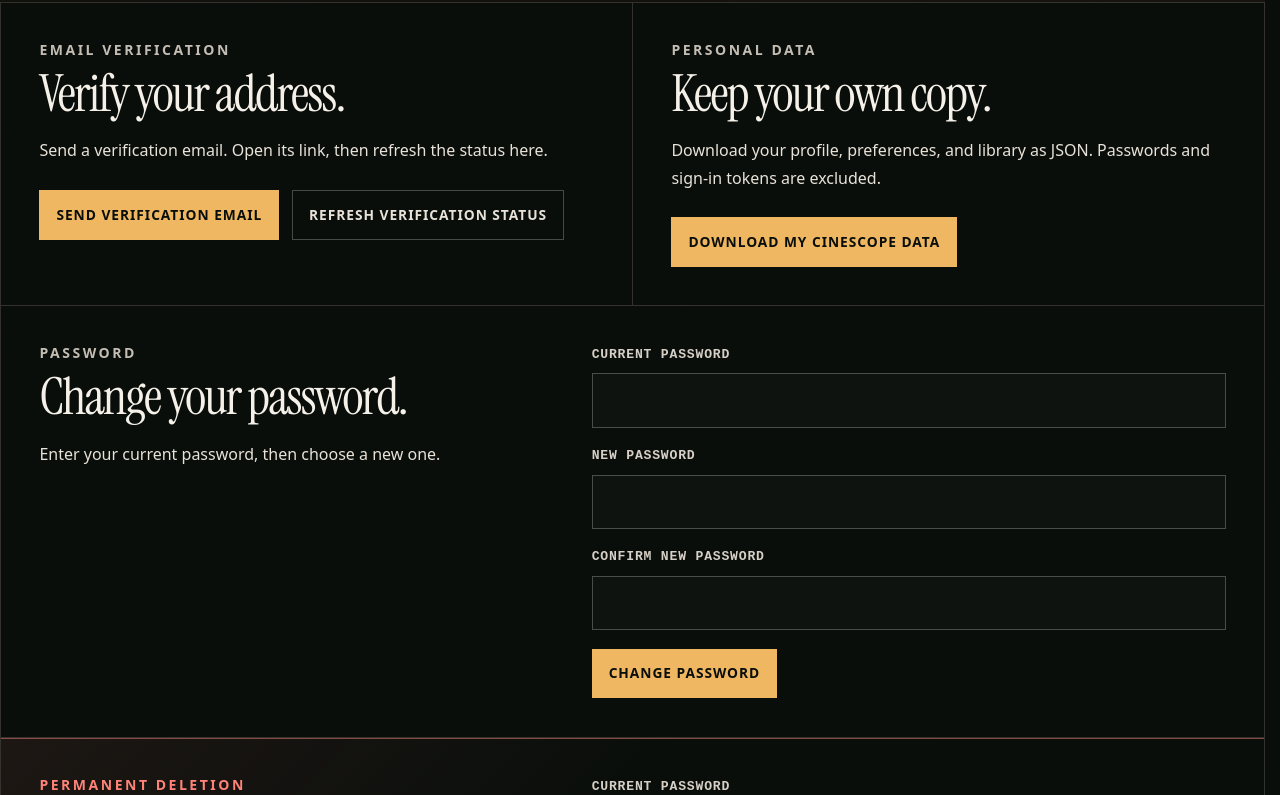
Test: profile security controls › requires matching new passwords before changing the credential
The width and height of the screenshot is (1280, 795).
(page scrolled)
Expected: the element "Change your password." is shown, [1,306,1264,737]
Type "CurrentPass123!" into the password field labelled "Current password". click: (909, 400)
box: [592,373,1226,428]
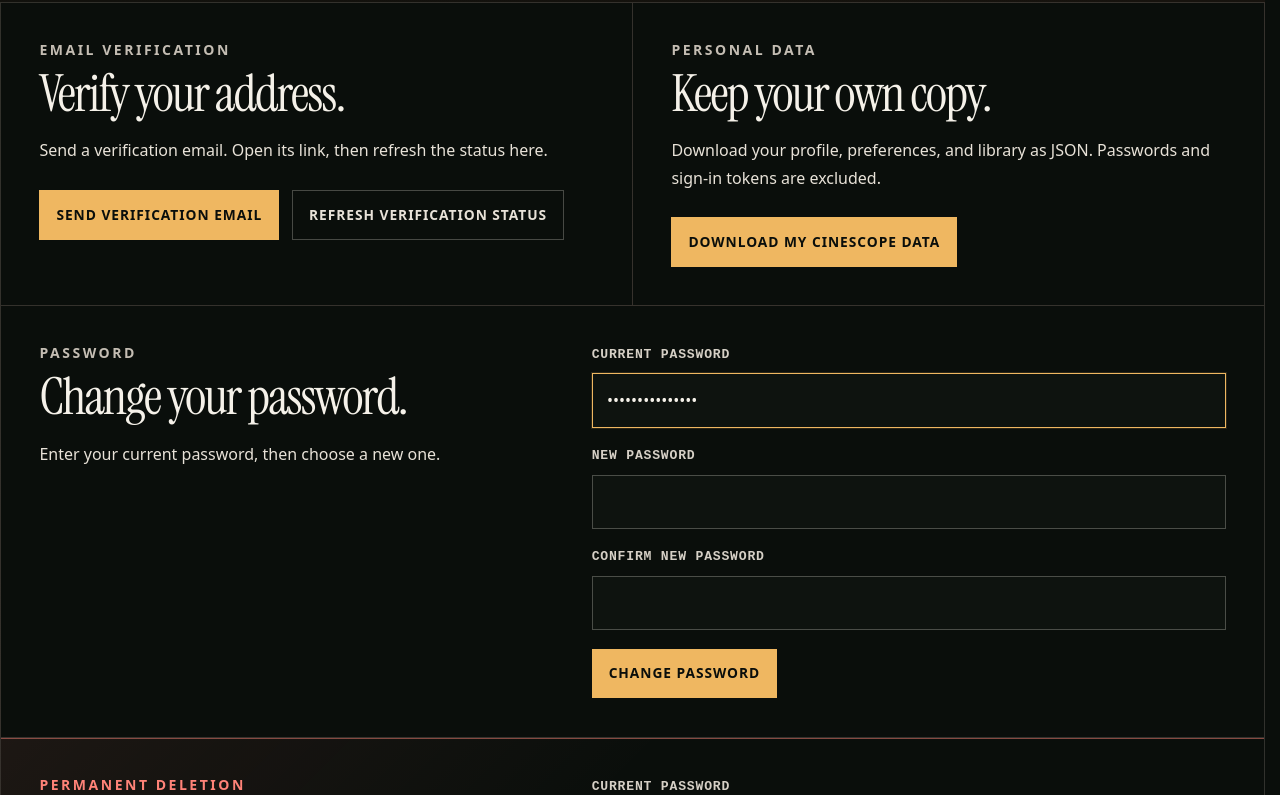
Type "NewPassword123!" into the password field labelled "New password". click: (909, 502)
box: [592,474,1226,529]
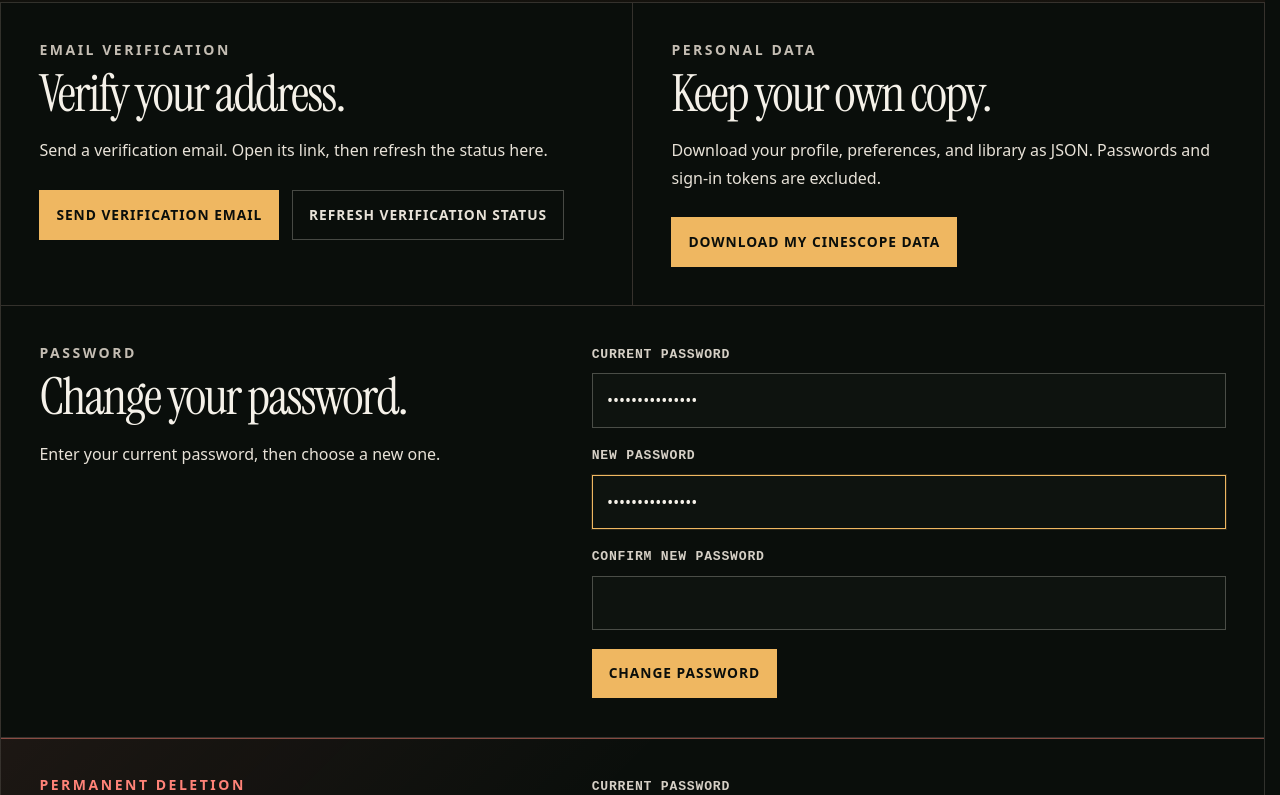
Type "NewPassword123!" into the password field labelled "Confirm new password". click: (909, 603)
box: [592,576,1226,630]
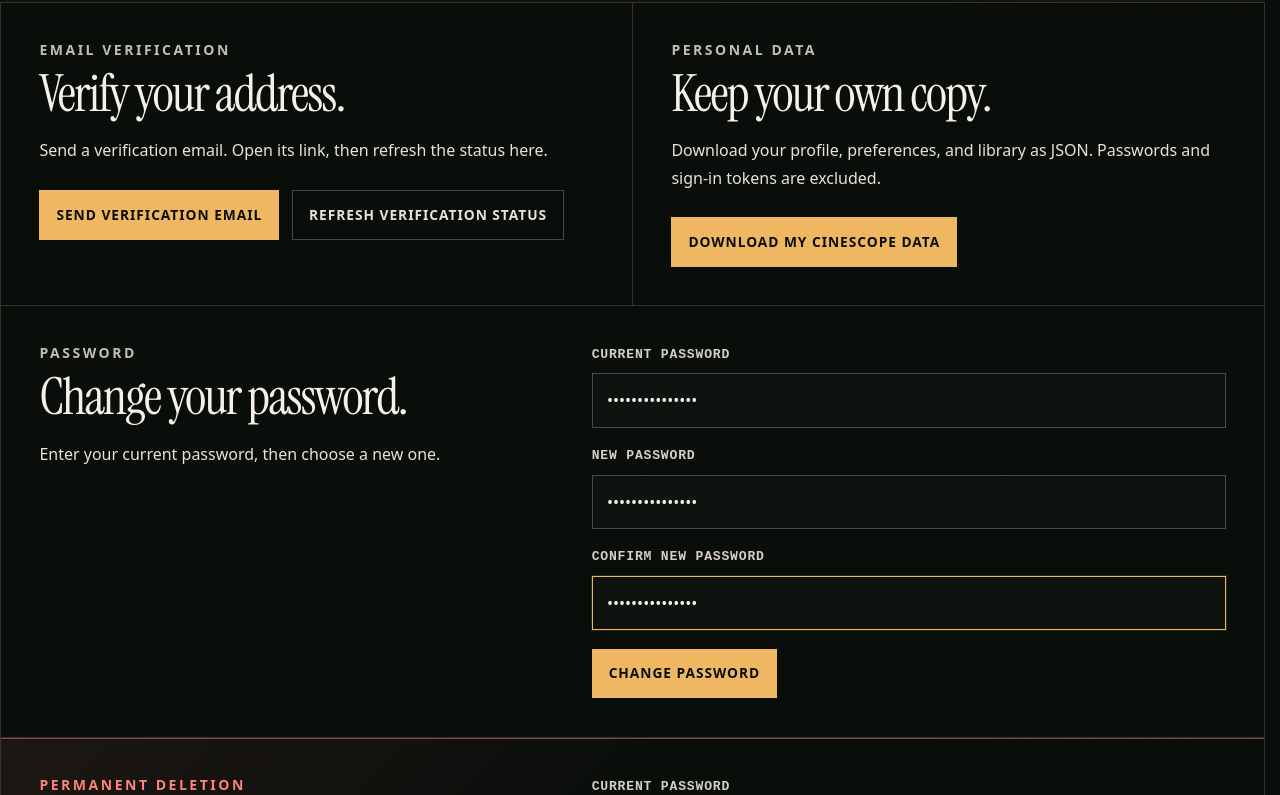
Click the button "Change password". click: (684, 673)
box: [592,649,777,698]
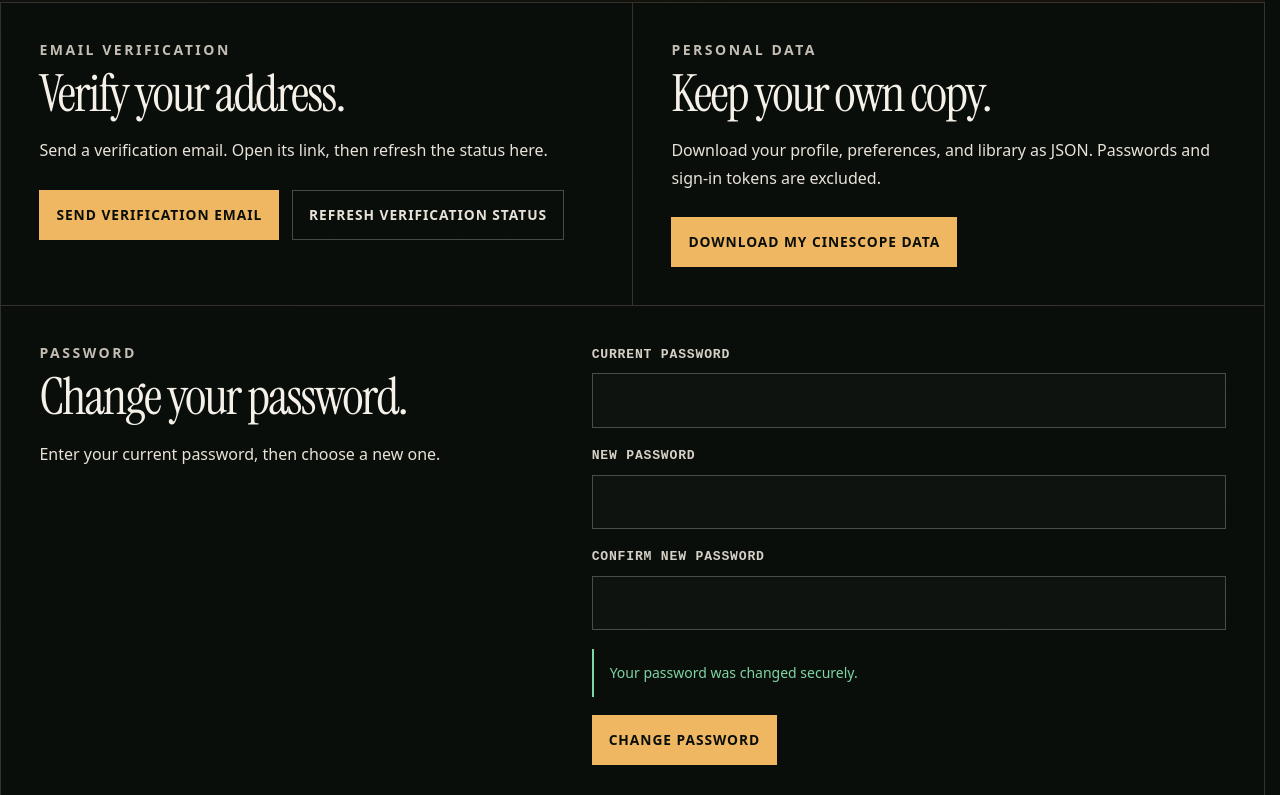
Expected: the text "Your password was changed securely." is shown, [592,649,1226,697]
